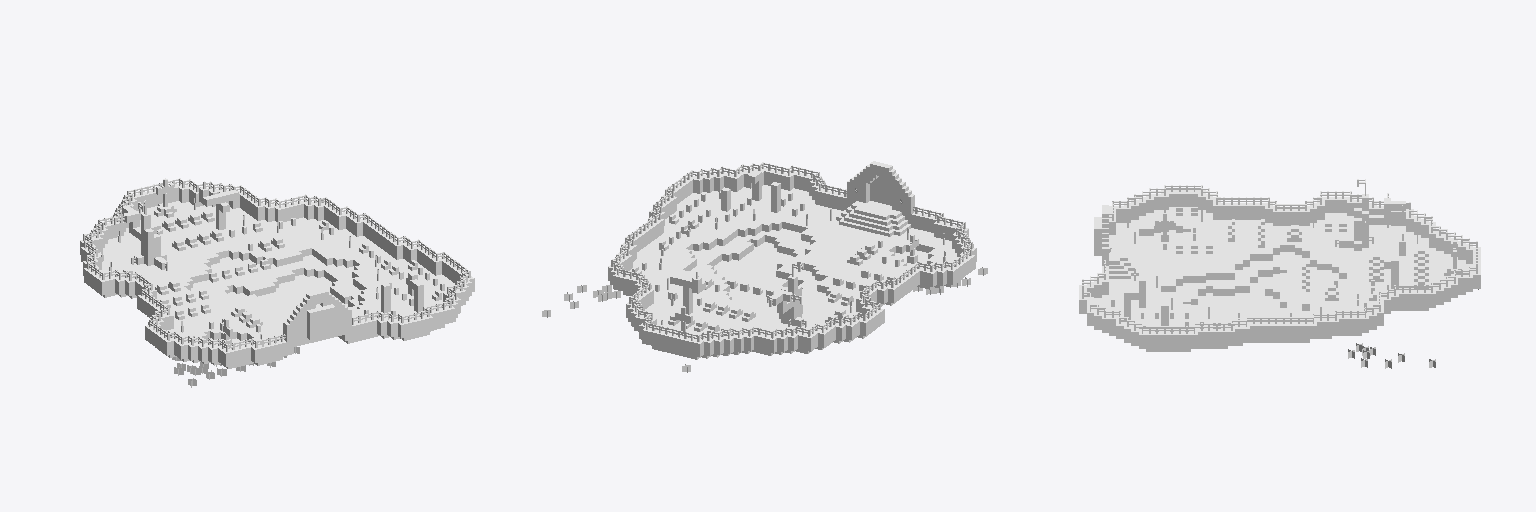
3 renders of one model, left to right at view 1: azimuth 30°, elevation 25°; view 2: azimuth 150°, elevation 25°; view 3: azimuth 270°, elevation 25°, orthographic.
Parts seen in each view (by area): view 1: 4482-app-3-levels__11_1_-55_to_56_13_-2; view 2: 4482-app-3-levels__11_1_-55_to_56_13_-2; view 3: 4482-app-3-levels__11_1_-55_to_56_13_-2.
Part boxes in pixels (bbox=[...]): 4482-app-3-levels__11_1_-55_to_56_13_-2: bbox=[80, 178, 474, 387]; 4482-app-3-levels__11_1_-55_to_56_13_-2: bbox=[542, 161, 987, 372]; 4482-app-3-levels__11_1_-55_to_56_13_-2: bbox=[1079, 179, 1480, 368].
Size of the model in its own units: 46.02 by 12 by 54.